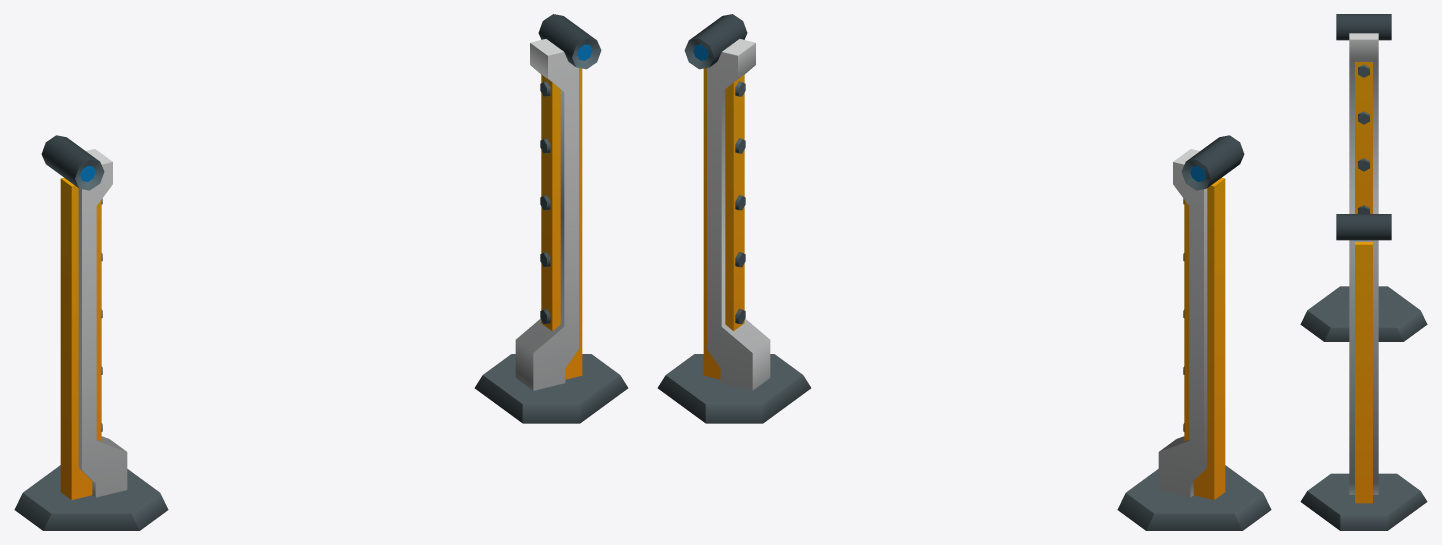
Rendered from Barriaer_007.fbx.
3 views of the same model, side by side, from view 1: azimuth 30°, elevation 25°; view 2: azimuth 150°, elevation 25°; view 3: azimuth 270°, elevation 25° (orthographic). The views are drawn at different scales.
Visible parts, largest first — view 1: Barriaer_007; view 2: Barriaer_007; view 3: Barriaer_007.
Boxes of the visible parts, bbox=[...] form: Barriaer_007: bbox=[14, 14, 628, 530]; Barriaer_007: bbox=[657, 14, 1271, 530]; Barriaer_007: bbox=[1300, 14, 1427, 530].
Size of the model in its own units: 283 by 64.47 by 167.
